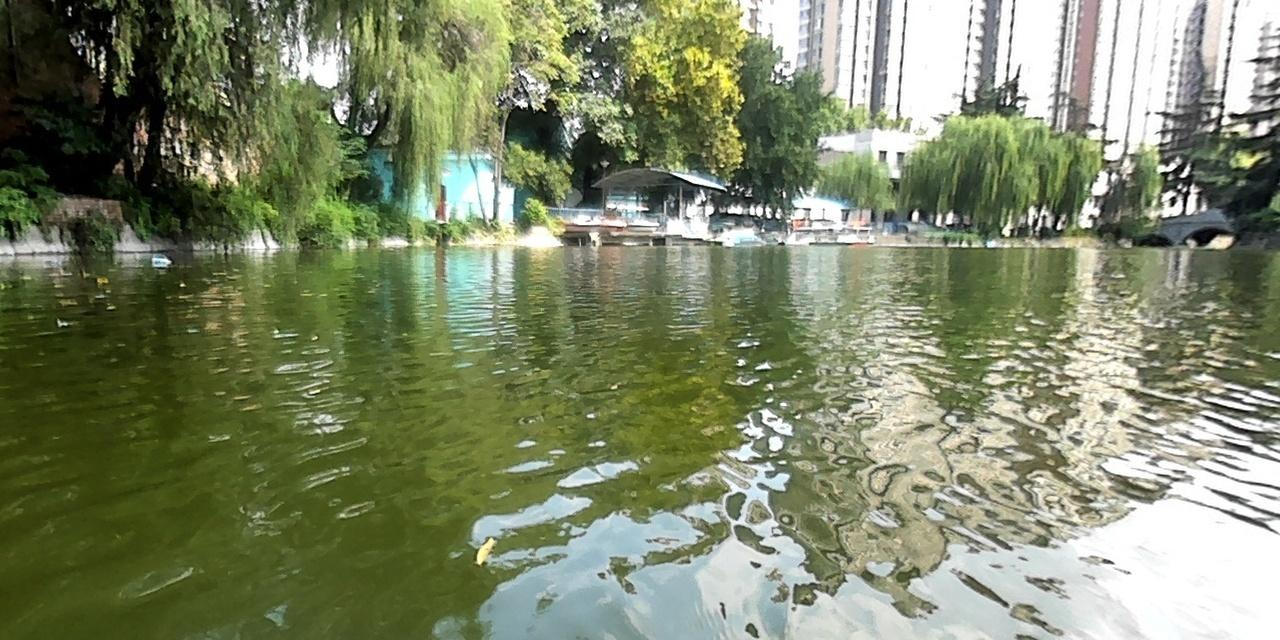bottle: (151, 256, 170, 265)
